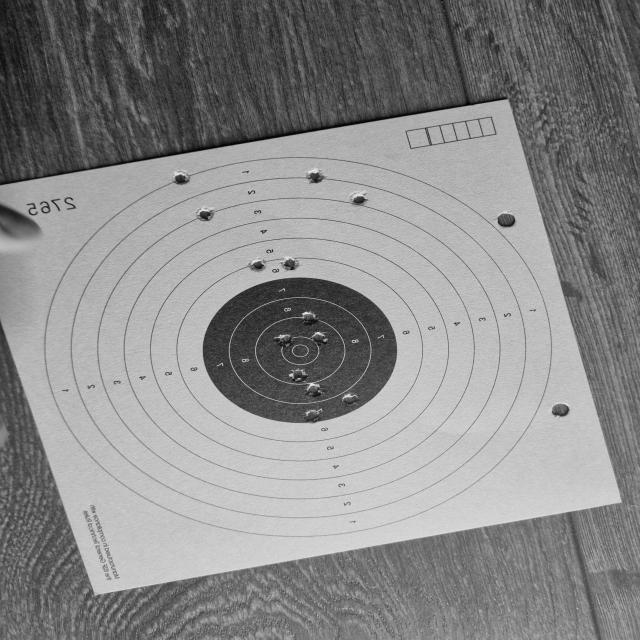1: (172, 171, 191, 185)
10: (274, 334, 294, 347), (310, 332, 328, 346)
2: (306, 168, 324, 184)
3: (194, 208, 216, 222), (351, 192, 368, 206)
6: (248, 259, 266, 272), (281, 258, 299, 271)
7: (304, 410, 320, 423), (342, 394, 358, 406)
8: (306, 383, 322, 397)
9: (288, 368, 308, 382), (302, 311, 318, 325)
Target: (44, 157, 552, 539)
black_contour: (202, 278, 397, 424)
